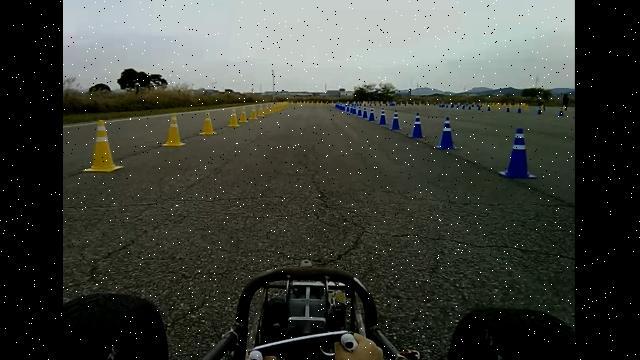blue cone: (493, 127, 535, 183), (434, 111, 461, 155), (406, 108, 428, 144), (386, 110, 401, 136)
yellow cone: (83, 118, 124, 173), (162, 112, 186, 146), (199, 110, 217, 135), (228, 108, 240, 127), (239, 108, 249, 123), (249, 106, 258, 120), (258, 106, 266, 116)
